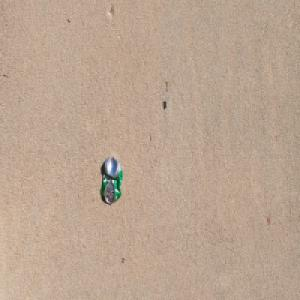SodaCan: (101, 155, 123, 205)
